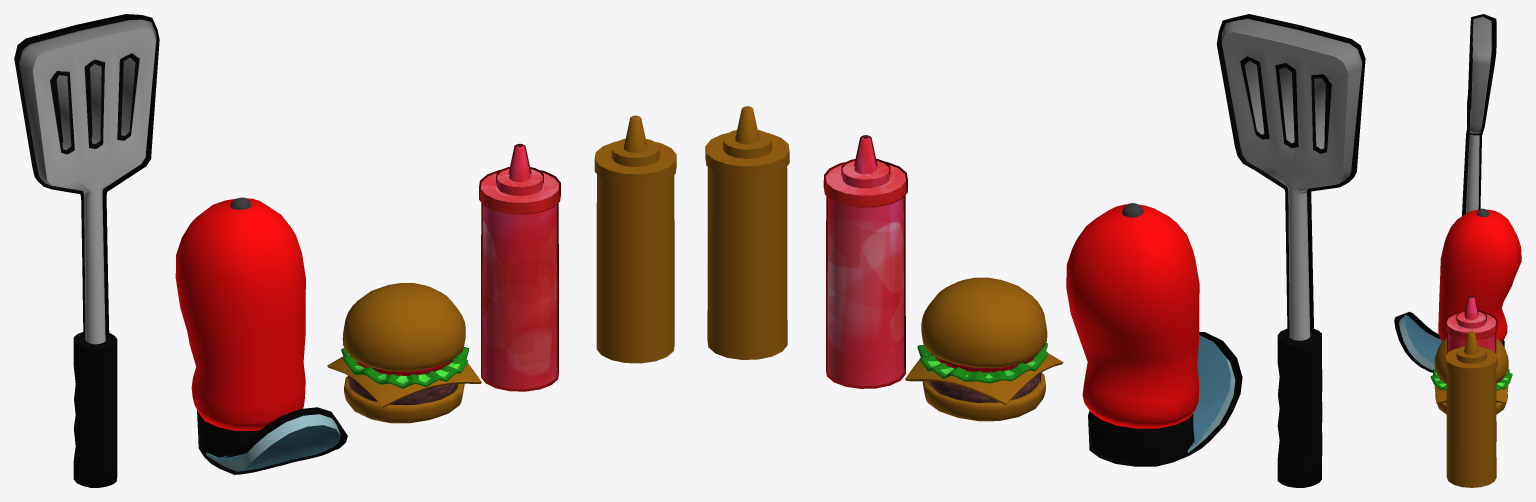
The model's file is Krabby Patty Super Deluxe Pack.fbx.
The picture shows the model from 3 angles, left to right: view 1: azimuth 30°, elevation 25°; view 2: azimuth 150°, elevation 25°; view 3: azimuth 270°, elevation 25°; orthographic projection. The views are drawn at different scales.
Parts seen in each view (by area): view 1: Spatula, KK Outline, Mustard Bottle Outline, Ketchup Bottle, Top Bun Outline, KK Employee Hat, Spatula Outline, Bottom Bun Outline, Cheese Outline, Ketchup Bottle Outline, Lettuce Outline, Patty; view 2: Spatula, KK Outline, Mustard Bottle Outline, Ketchup Bottle, Top Bun Outline, KK Employee Hat, Spatula Outline, Bottom Bun Outline, Cheese Outline, Ketchup Bottle Outline, Lettuce Outline, Patty; view 3: KK Outline, Mustard Bottle Outline, Spatula, Ketchup Bottle, Spatula Outline, KK Employee Hat, Top Bun Outline, Ketchup Bottle Outline, Cheese Outline, Lettuce Outline, Bottom Bun Outline.
Part boxes in pixels (x1=…): Spatula: x1=19, y1=19, x2=156, y2=487; KK Outline: x1=175, y1=198, x2=347, y2=474; Mustard Bottle Outline: x1=594, y1=115, x2=676, y2=363; Ketchup Bottle: x1=480, y1=145, x2=559, y2=389; Top Bun Outline: x1=342, y1=283, x2=465, y2=371; KK Employee Hat: x1=200, y1=197, x2=340, y2=471; Spatula Outline: x1=14, y1=14, x2=159, y2=339; Bottom Bun Outline: x1=344, y1=376, x2=464, y2=423; Cheese Outline: x1=327, y1=356, x2=481, y2=407; Ketchup Bottle Outline: x1=479, y1=143, x2=560, y2=391; Lettuce Outline: x1=341, y1=347, x2=469, y2=388; Patty: x1=349, y1=376, x2=457, y2=404; Spatula: x1=1221, y1=18, x2=1362, y2=487; KK Outline: x1=1066, y1=204, x2=1242, y2=466; Mustard Bottle Outline: x1=705, y1=106, x2=789, y2=359; Ketchup Bottle: x1=825, y1=136, x2=905, y2=386; Top Bun Outline: x1=921, y1=277, x2=1047, y2=367; KK Employee Hat: x1=1091, y1=203, x2=1235, y2=463; Spatula Outline: x1=1216, y1=14, x2=1365, y2=337; Bottom Bun Outline: x1=922, y1=372, x2=1045, y2=421; Cheese Outline: x1=905, y1=353, x2=1063, y2=404; Ketchup Bottle Outline: x1=823, y1=135, x2=907, y2=388; Lettuce Outline: x1=917, y1=343, x2=1047, y2=383; Patty: x1=928, y1=374, x2=1039, y2=402; KK Outline: x1=1394, y1=209, x2=1521, y2=372; Mustard Bottle Outline: x1=1445, y1=331, x2=1497, y2=487; Spatula: x1=1466, y1=16, x2=1491, y2=213; Ketchup Bottle: x1=1446, y1=296, x2=1496, y2=352; Spatula Outline: x1=1462, y1=14, x2=1496, y2=215; KK Employee Hat: x1=1399, y1=208, x2=1502, y2=370; Top Bun Outline: x1=1434, y1=338, x2=1508, y2=381; Ketchup Bottle Outline: x1=1445, y1=295, x2=1497, y2=441; Cheese Outline: x1=1434, y1=385, x2=1508, y2=403; Lettuce Outline: x1=1430, y1=368, x2=1512, y2=390; Bottom Bun Outline: x1=1435, y1=394, x2=1507, y2=414.
Bounding box in the file's own units: 1677 × 1115 × 454.
Materials: 11 (5 with a texture image).
